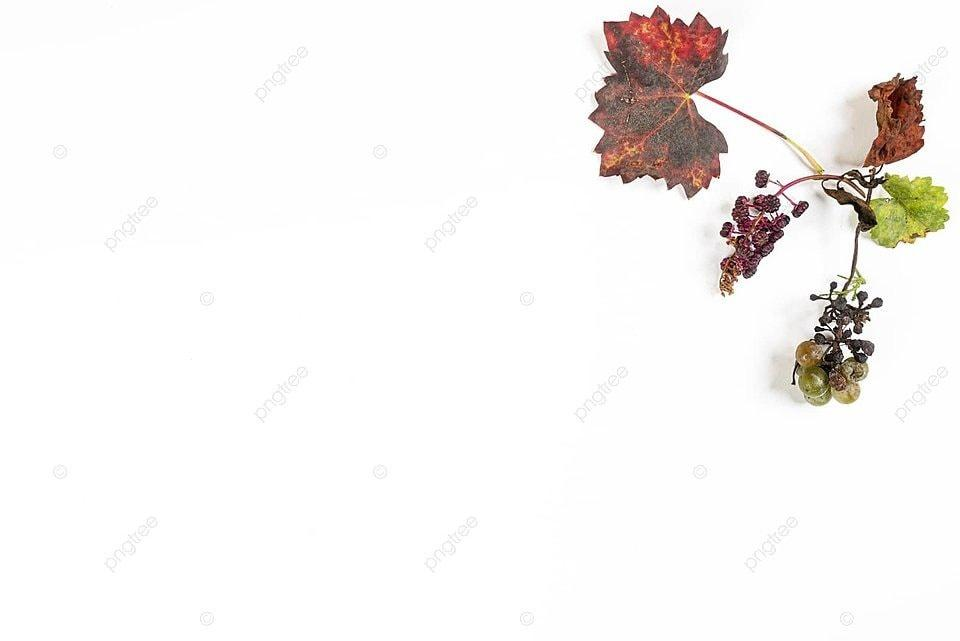Grape Rotten: (790, 278, 884, 406), (718, 169, 809, 297)
